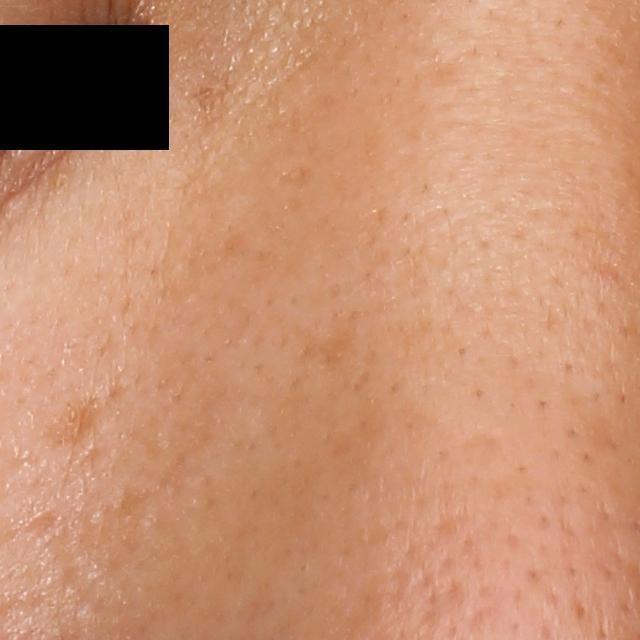melasma: (293, 306, 361, 371), (52, 397, 103, 449), (182, 78, 236, 125)
